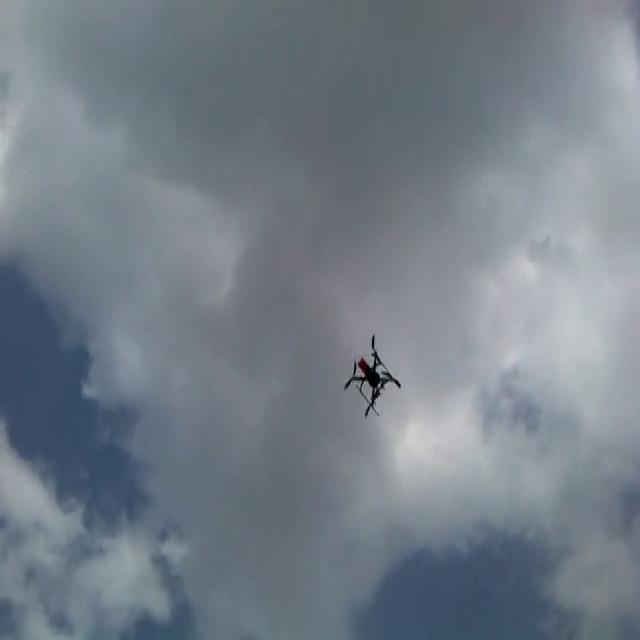drone: (342, 330, 400, 420)
